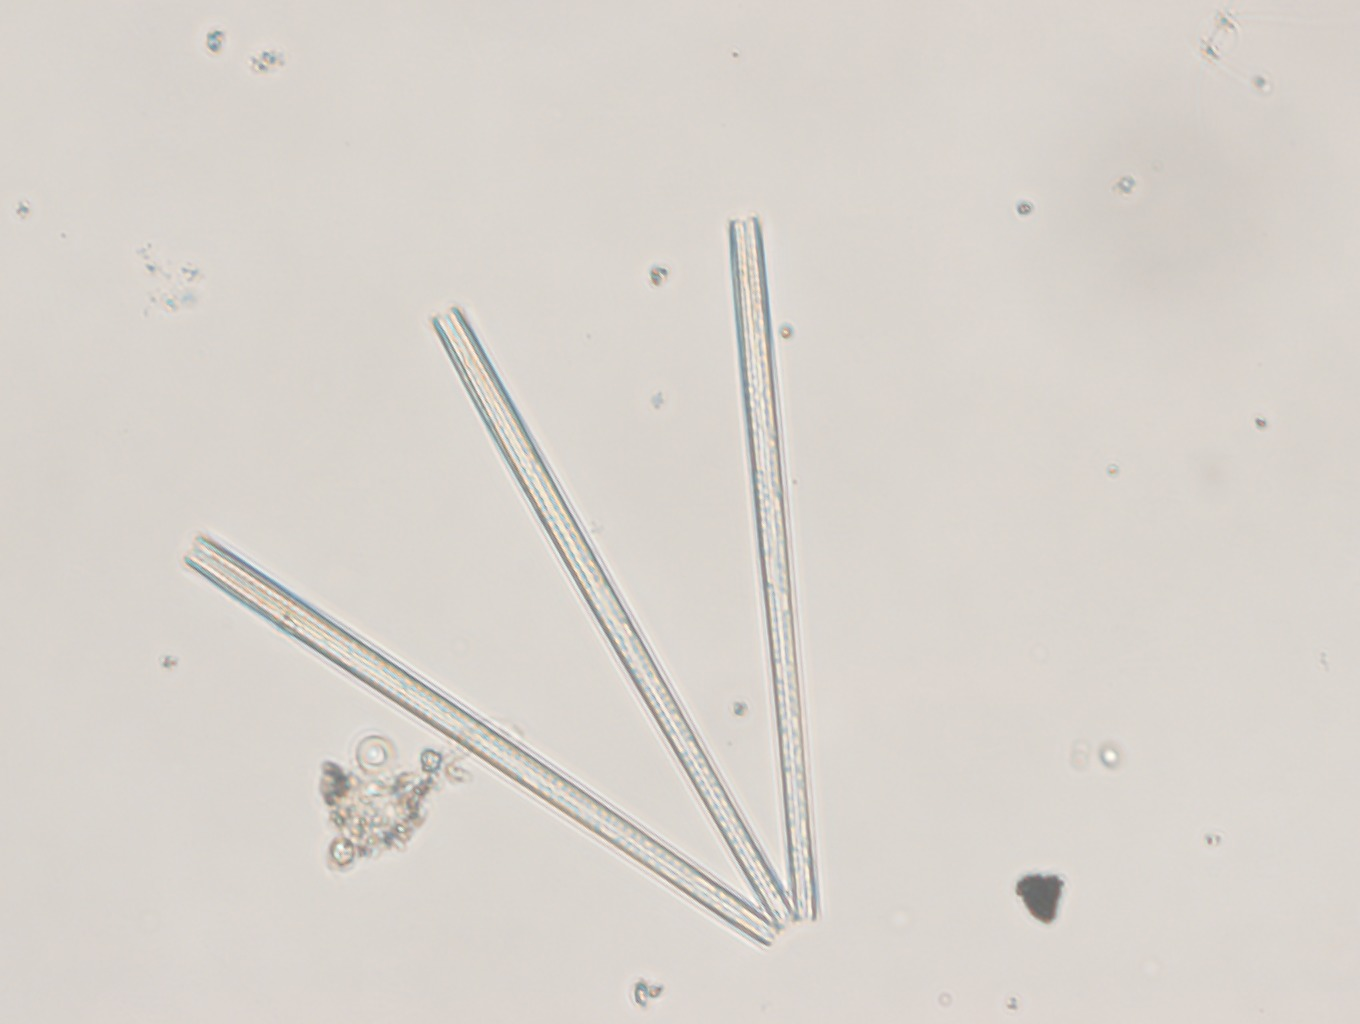thalassionema frauenfeldii: (185, 214, 838, 959)
